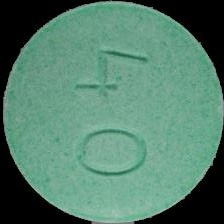53808-0772: (0, 0, 224, 224)
